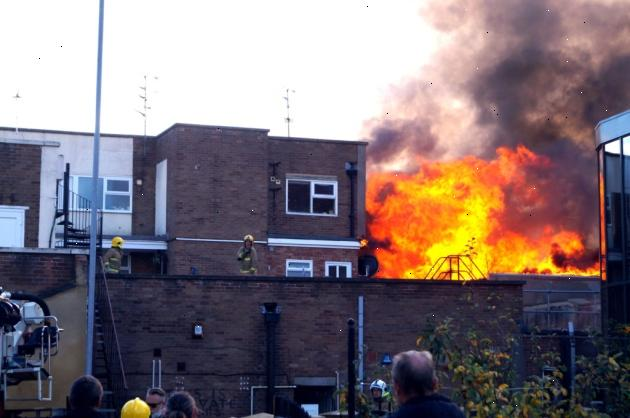fire: (367, 157, 534, 271)
smoke: (408, 0, 630, 156), (534, 158, 601, 225), (365, 87, 409, 157), (554, 244, 603, 273)
